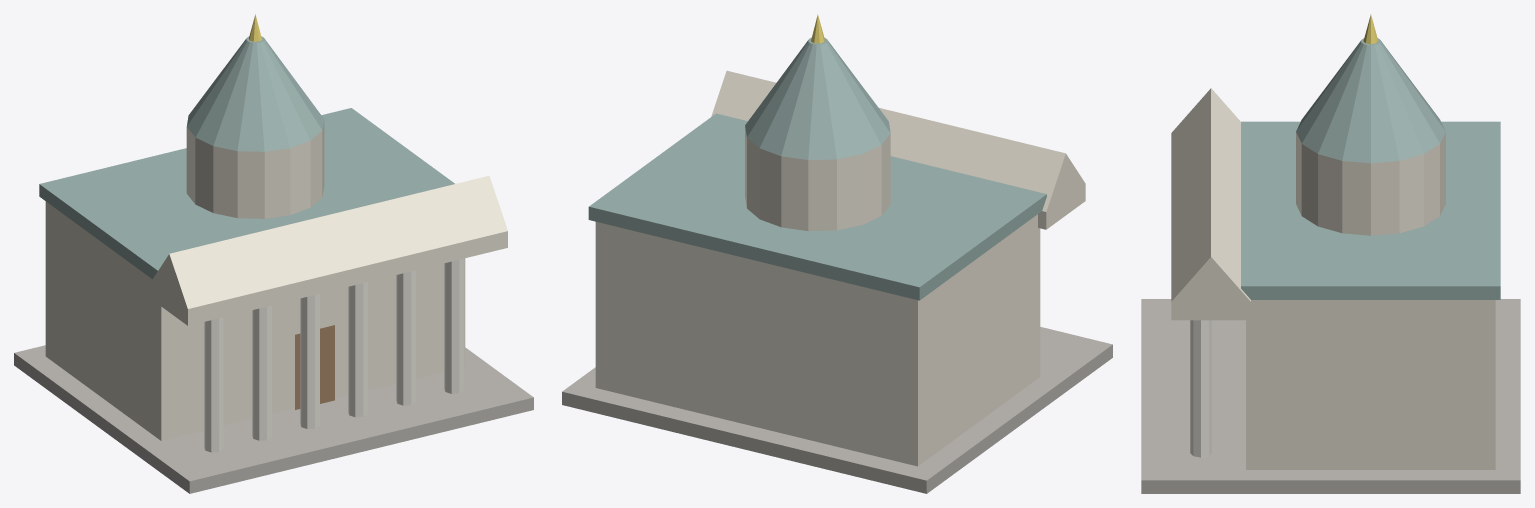
Rendered from city_hall.glb.
3 renders of one model, left to right at view 1: azimuth 30°, elevation 25°; view 2: azimuth 150°, elevation 25°; view 3: azimuth 270°, elevation 25°, orthographic. The views are drawn at different scales.
Parts seen in each view (by area): view 1: city_hall; view 2: city_hall; view 3: city_hall.
Part boxes in pixels (x1,y1,x2,y2): city_hall: (14, 14, 533, 493); city_hall: (562, 14, 1112, 493); city_hall: (1141, 14, 1520, 493).
Bounding box in the file's own units: 0.86 × 0.86 × 0.76.
